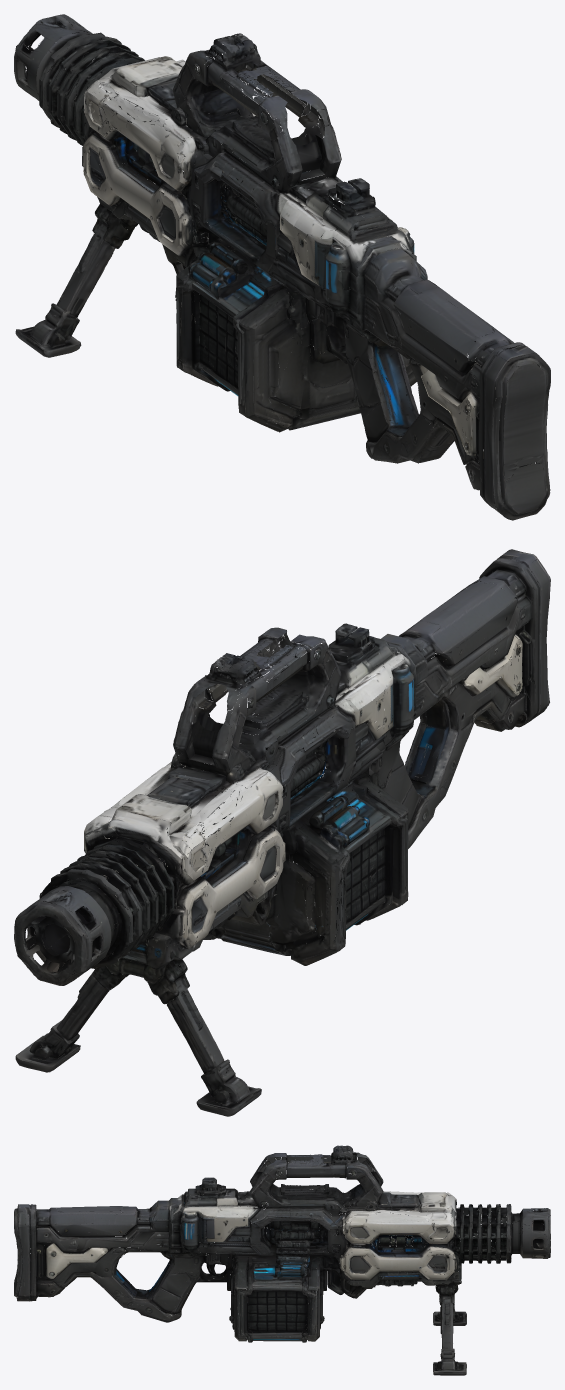
File: em86m_viewmodel_ads_reload.glb
3 views of the same model, one above another, from view 1: azimuth 30°, elevation 25°; view 2: azimuth 150°, elevation 25°; view 3: azimuth 270°, elevation 25° (orthographic). The views are drawn at different scales.
Visible parts, largest first — view 1: Body, DetachableMagazine; view 2: Body, DetachableMagazine; view 3: Body, DetachableMagazine.
Part boxes in pixels (box(x1,y1,x2,y2)): Body: box(14, 14, 550, 520); DetachableMagazine: box(175, 230, 421, 432); Body: box(14, 549, 550, 1116); DetachableMagazine: box(175, 778, 408, 965); Body: box(14, 1145, 550, 1375); DetachableMagazine: box(227, 1240, 326, 1342).
Size of what is drawn, in the model's own units: 0.2922 by 0.4487 by 1.1.
1 material, 1 textured.
